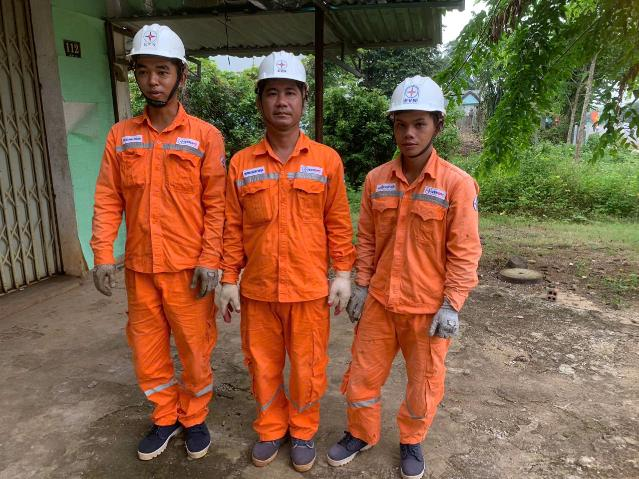gloves: (202, 271, 250, 321), (174, 252, 225, 298), (337, 275, 386, 319), (313, 264, 360, 308), (428, 297, 465, 346), (90, 253, 118, 307)
helmet: (366, 67, 467, 122), (122, 10, 211, 63), (248, 40, 326, 94)
shoes: (122, 394, 183, 460), (326, 413, 387, 468), (175, 407, 227, 466), (389, 419, 435, 479), (243, 422, 287, 473), (279, 426, 319, 479)
